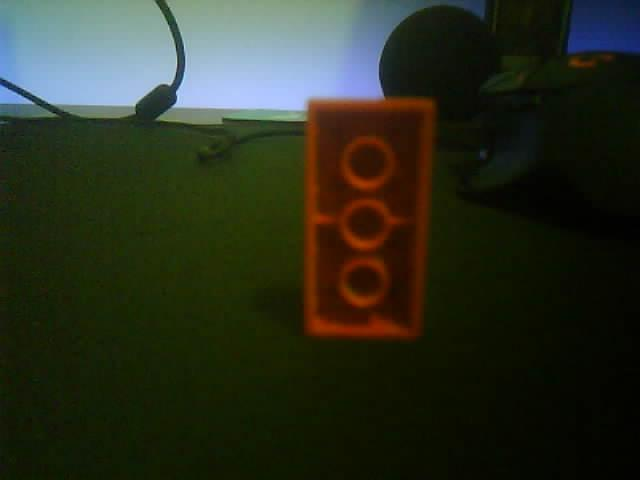lego: (301, 94, 436, 341)
